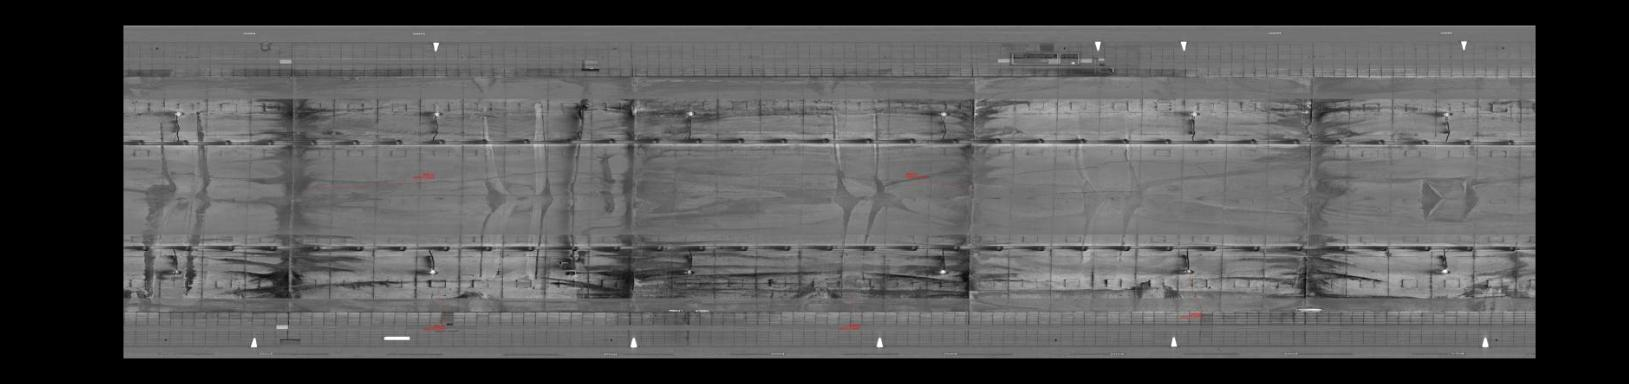light: (425, 108, 448, 120), (1436, 265, 1454, 279), (1178, 265, 1197, 277), (1437, 107, 1457, 118), (933, 108, 954, 118), (170, 107, 187, 119), (423, 265, 440, 276), (1182, 108, 1201, 118), (935, 266, 952, 277), (167, 265, 184, 276), (682, 109, 699, 119), (680, 268, 699, 276)
